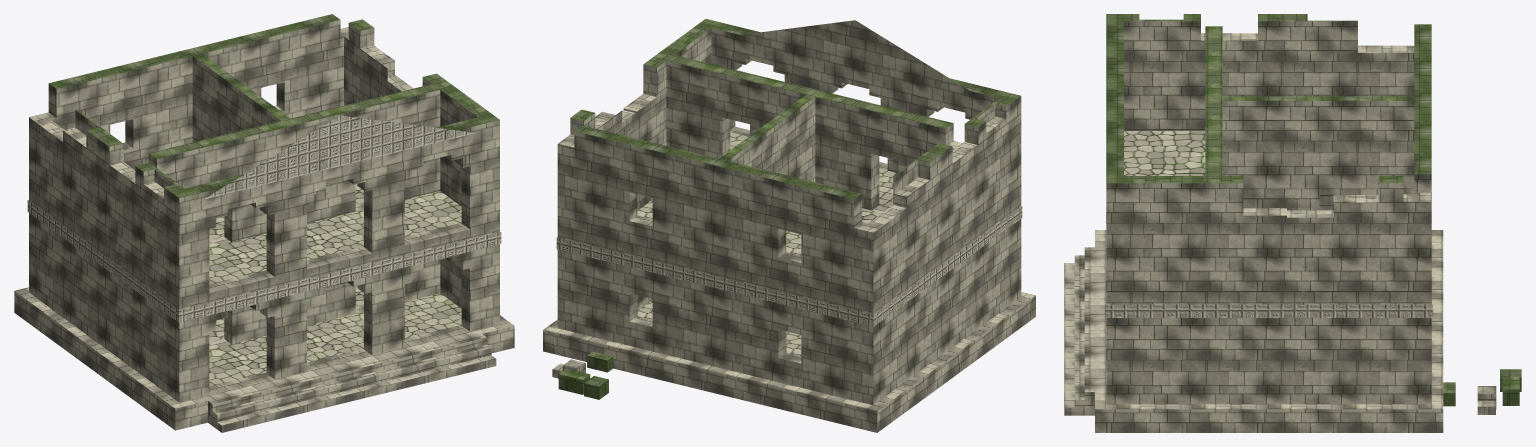
Rendered from ruin-arcade-c.zfix-v11.lod0.glb.
The picture shows the model from 3 angles, left to right: view 1: azimuth 30°, elevation 25°; view 2: azimuth 150°, elevation 25°; view 3: azimuth 270°, elevation 25°; orthographic projection. The views are drawn at different scales.
Parts seen in each view (by area): view 1: ruin-arcade-c; view 2: ruin-arcade-c; view 3: ruin-arcade-c.
Part boxes in pixels (x1,y1,x2,y2): ruin-arcade-c: (14, 14, 514, 432); ruin-arcade-c: (543, 19, 1035, 432); ruin-arcade-c: (1064, 14, 1521, 432).
Size of the model in its own units: 14.6 by 11.1 by 15.75.
4 materials, 4 textured.
